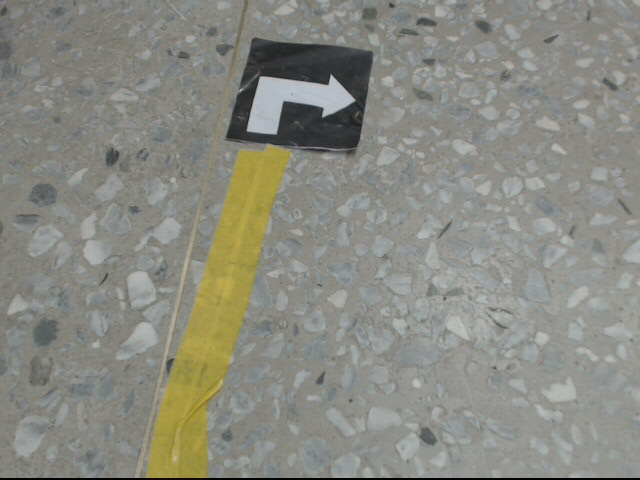right: (226, 38, 374, 151)
